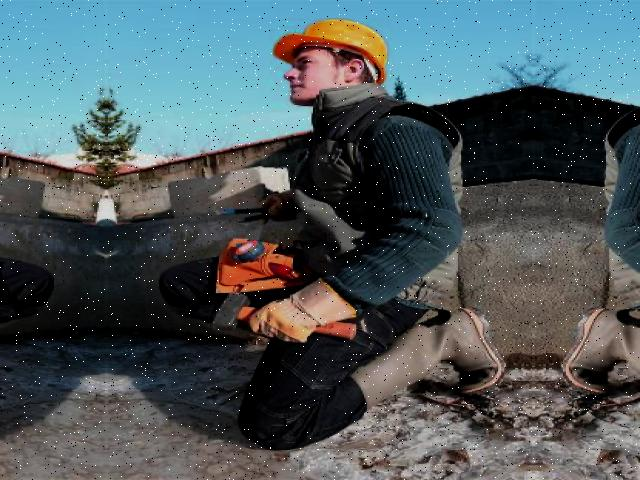Helmet: (267, 14, 396, 91)
